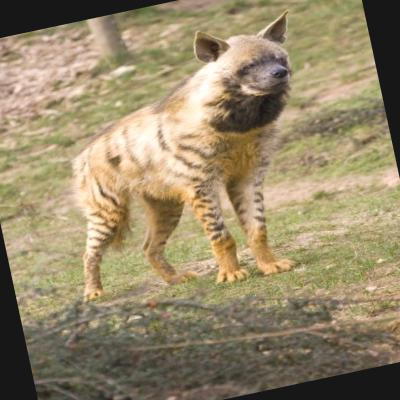hyenas: (32, 0, 400, 369)
